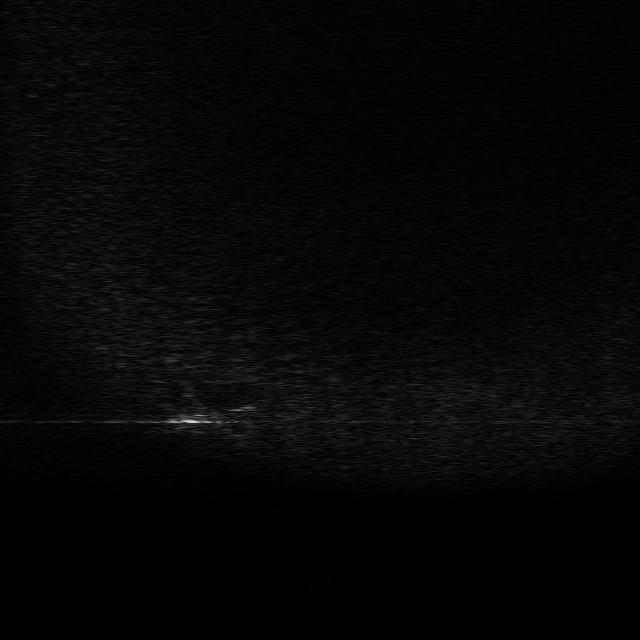plane: (162, 390, 262, 439)
